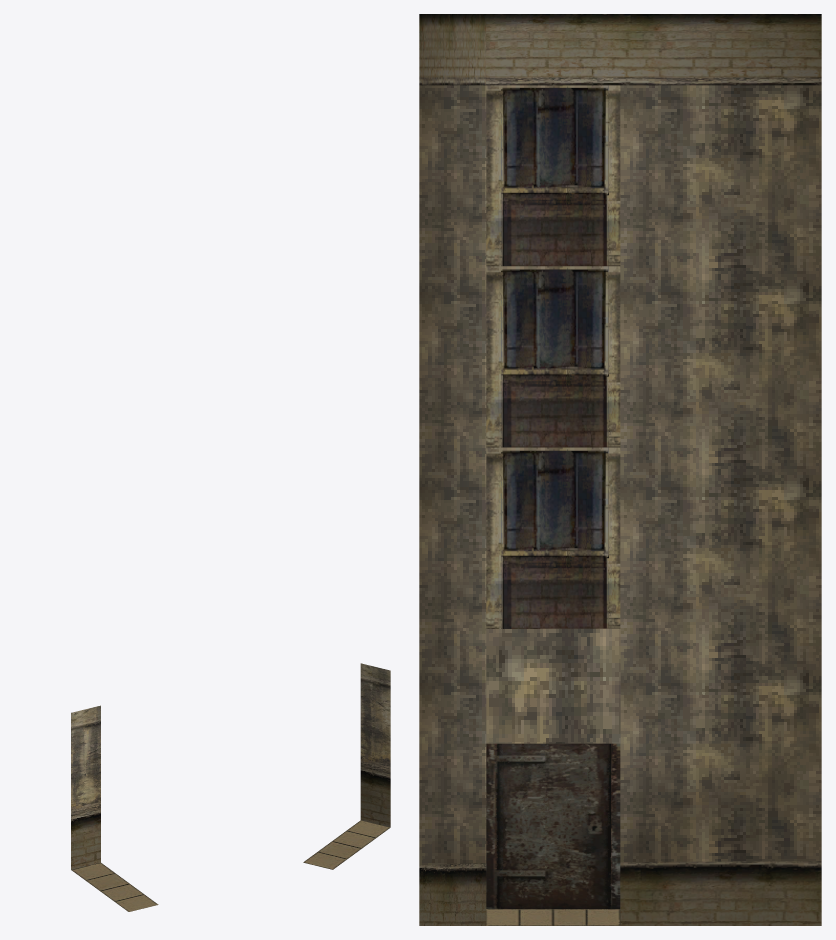
The model's file is M10_Z2_NewBuild05.glb.
3 renders of one model, left to right at view 1: azimuth 30°, elevation 25°; view 2: azimuth 150°, elevation 25°; view 3: azimuth 270°, elevation 25°, orthographic. The views are drawn at different scales.
Parts seen in each view (by area): view 1: M10_Z2_NEWBUILD05; view 2: M10_Z2_NEWBUILD05; view 3: M10_Z2_NEWBUILD05.
Boxes of the visible parts, box(x1,y1,x2,y2) form: M10_Z2_NEWBUILD05: box(71, 705, 158, 911); M10_Z2_NEWBUILD05: box(303, 663, 390, 869); M10_Z2_NEWBUILD05: box(419, 14, 821, 925).
Size of the model in its own units: 0.6 by 15 by 6.
5 materials, 5 textured.
